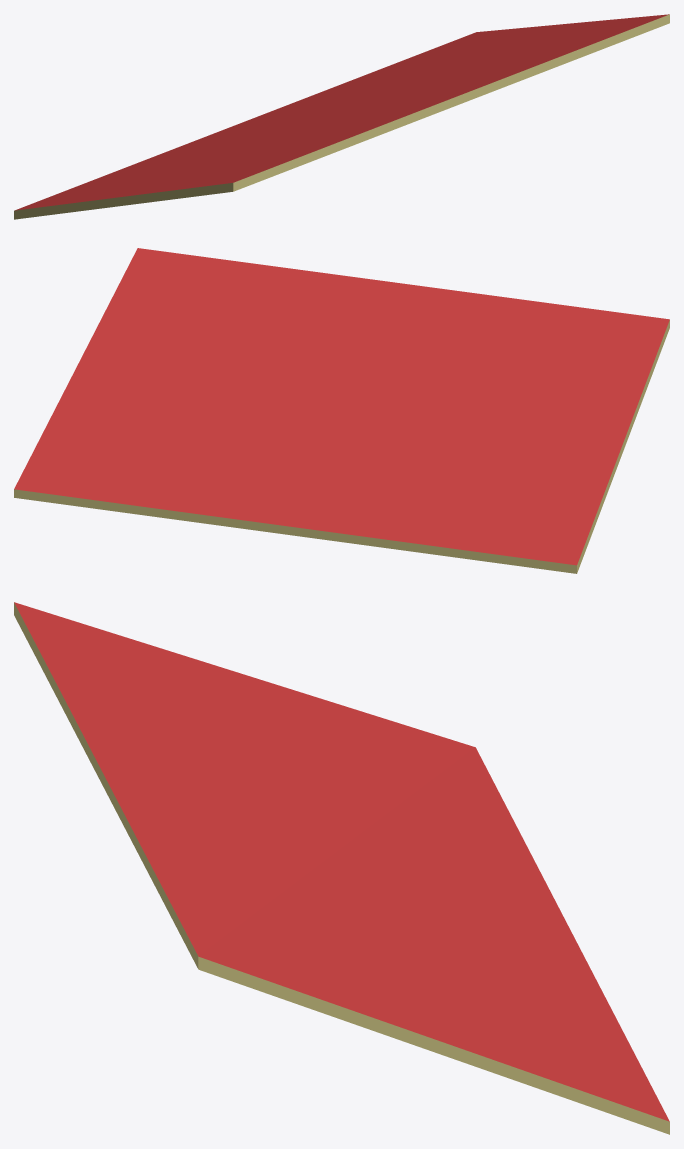
3 views of the same model, one above another, from view 1: azimuth 30°, elevation 25°; view 2: azimuth 150°, elevation 25°; view 3: azimuth 270°, elevation 25° (orthographic). The views are drawn at different scales.
Size of the model in its own units: 6.52 by 4.55 by 1.54.
